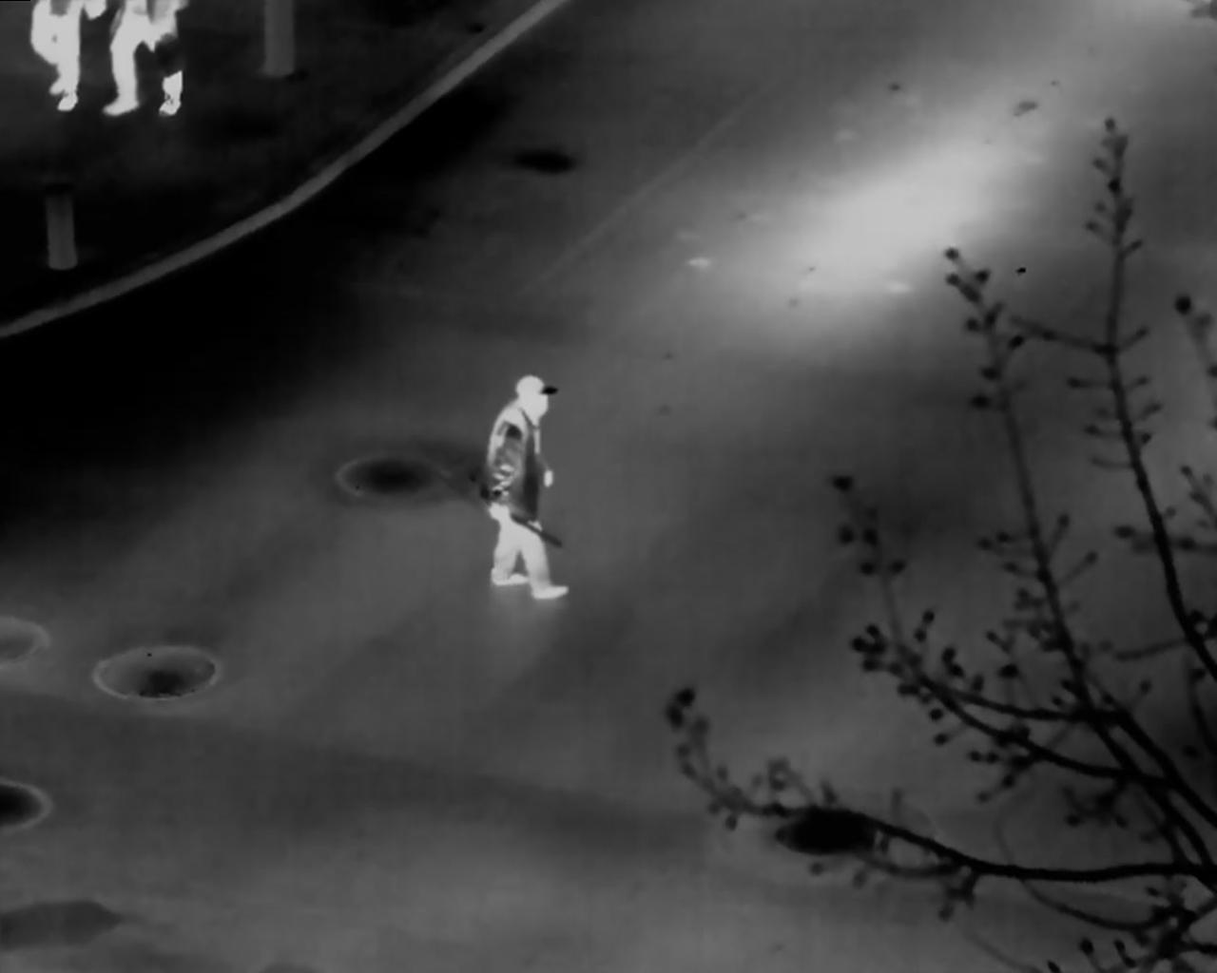person: (484, 373, 570, 600)
